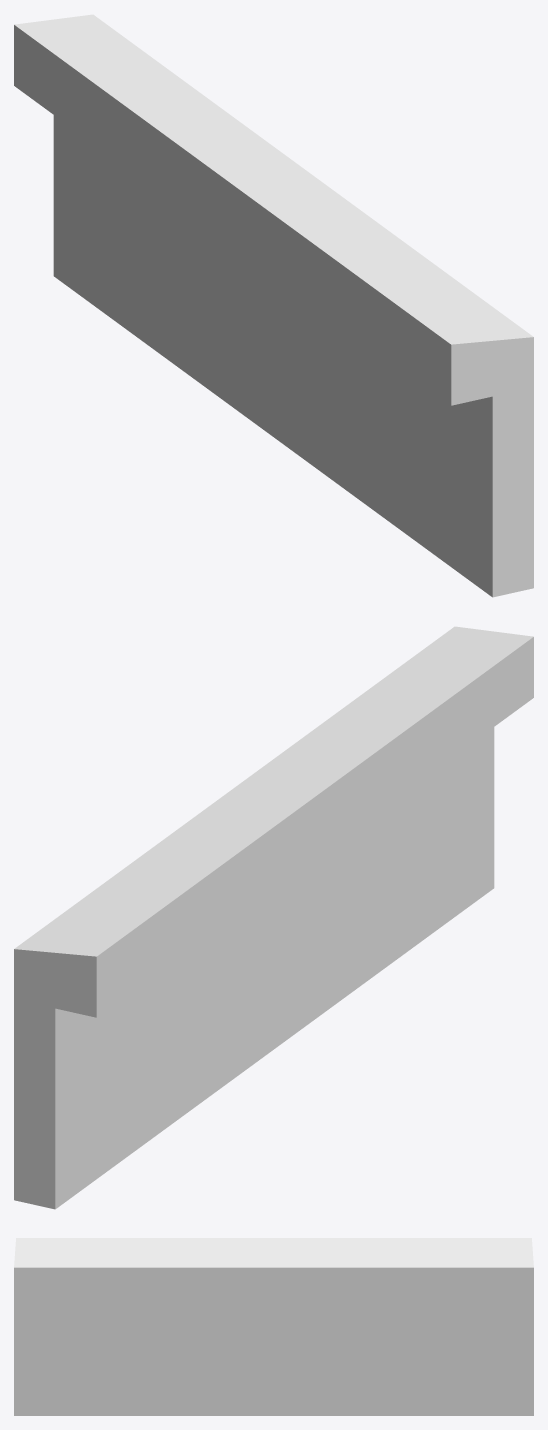
The model's file is InsideFront.glb.
The picture shows the model from 3 angles, top to bottom: view 1: azimuth 30°, elevation 25°; view 2: azimuth 150°, elevation 25°; view 3: azimuth 270°, elevation 25°; orthographic projection. The views are drawn at different scales.
Visible parts, largest first — view 1: InsideFront.003; view 2: InsideFront.003; view 3: InsideFront.003.
Part boxes in pixels (bbox=[...]): InsideFront.003: bbox=[14, 14, 533, 597]; InsideFront.003: bbox=[14, 626, 533, 1209]; InsideFront.003: bbox=[14, 1238, 533, 1415].
Bounding box in the file's own units: 0.00776 × 0.024 × 0.0732.
1 material, 1 textured.
